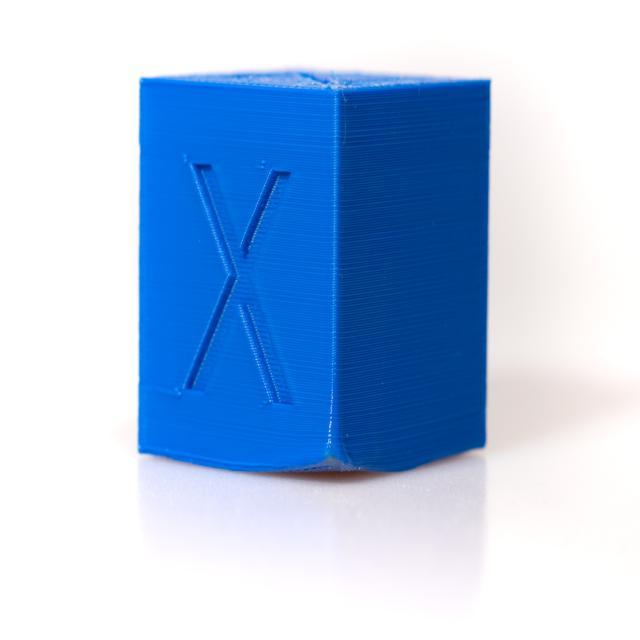Warping: (235, 434, 418, 509)
